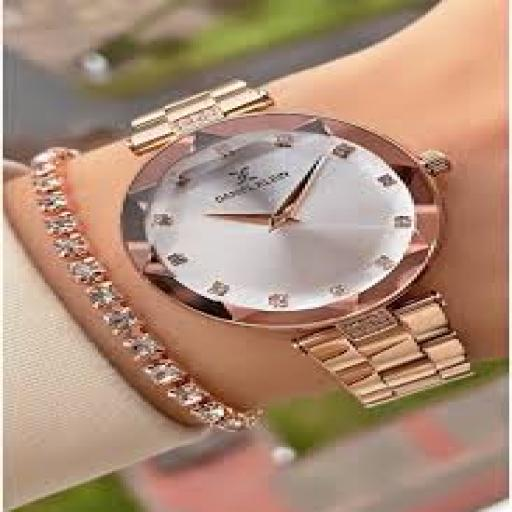KolSaati: (84, 78, 501, 410)
